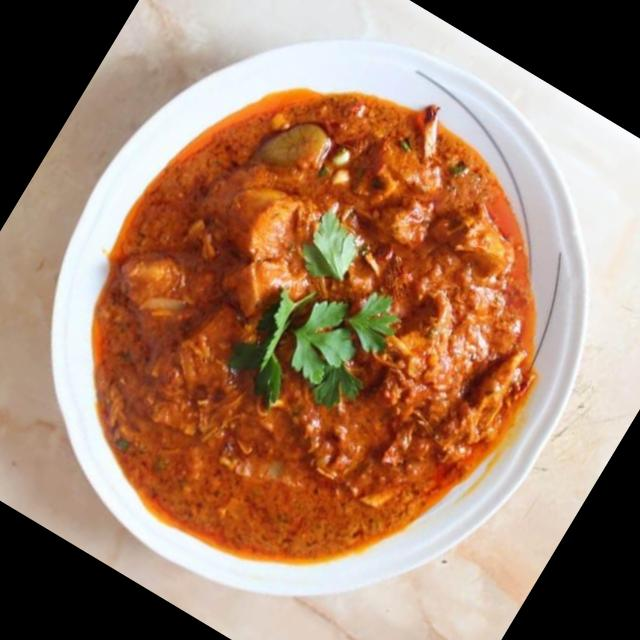chicken: (34, 22, 628, 624)
